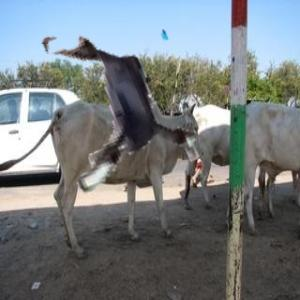drone: (14, 9, 217, 212)
